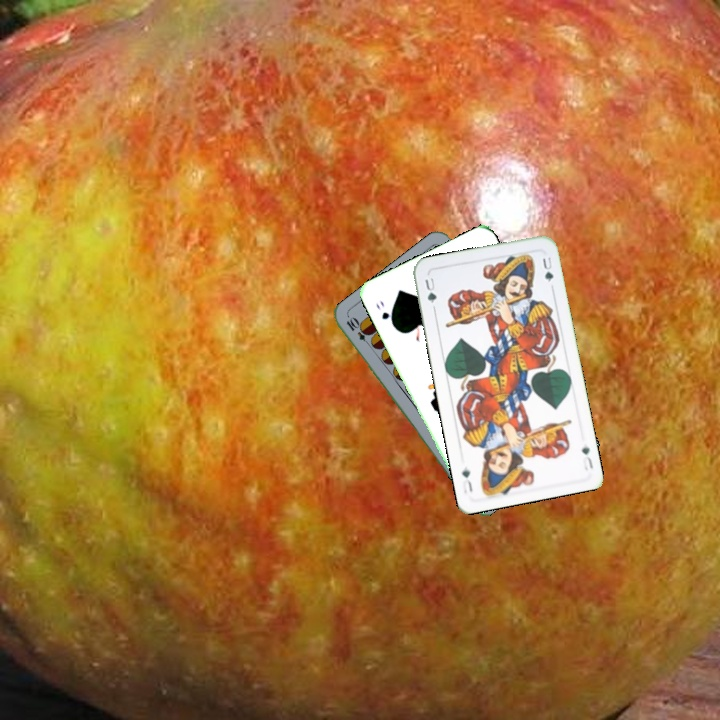E10: (342, 313, 375, 349)
GO: (372, 297, 397, 329)
GU: (421, 274, 439, 312), (577, 441, 595, 473)
